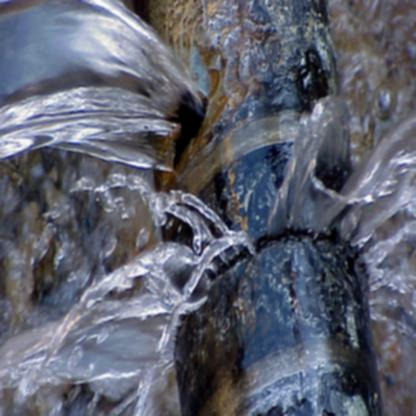burst: (157, 183, 387, 326), (142, 72, 216, 172)
